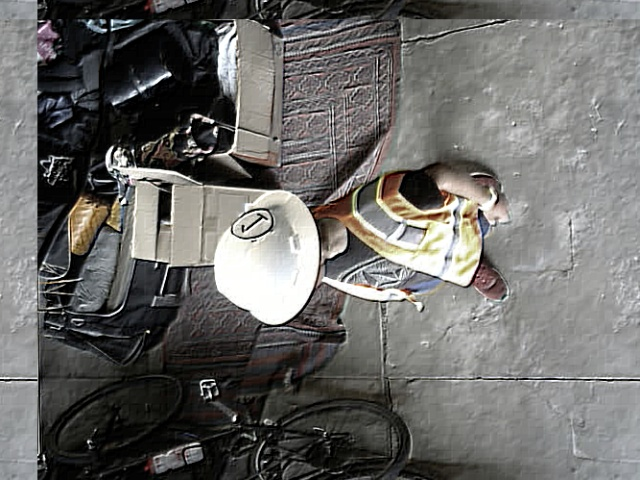one: (230, 208, 272, 239)
